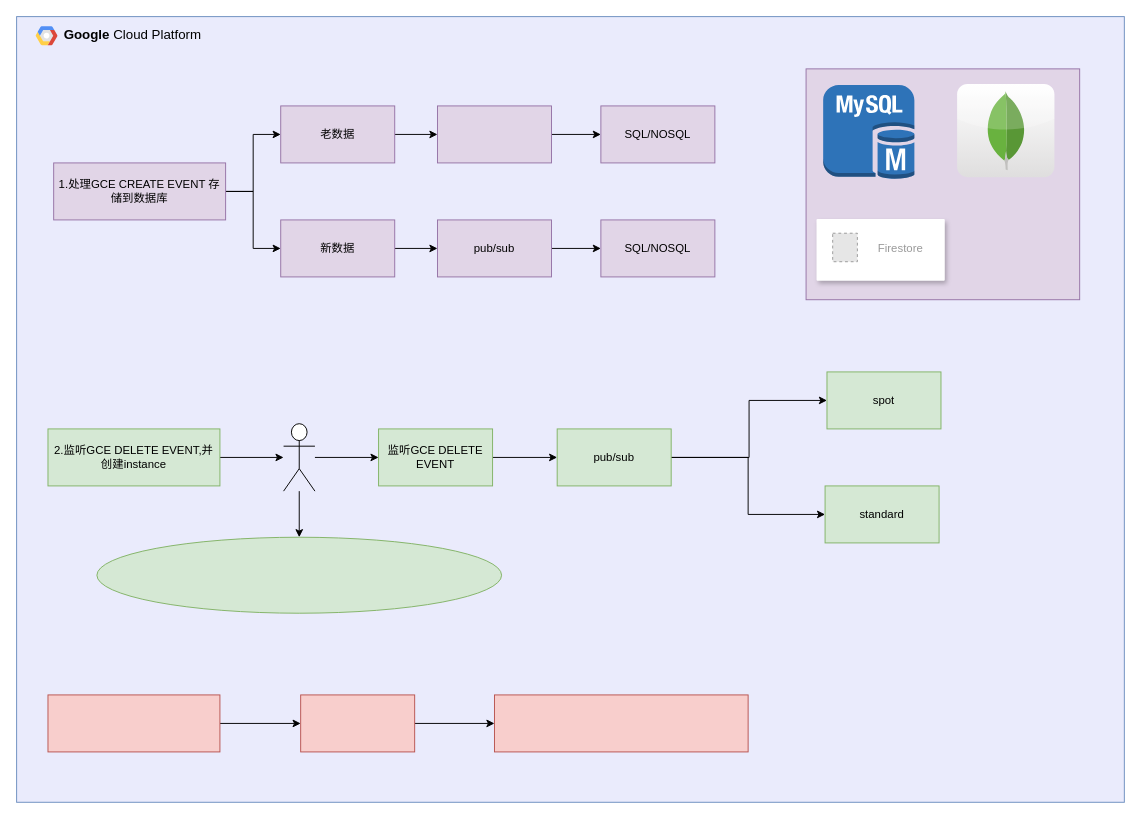
Some shapes in this 1141 by 819 pixel diagram are drawn without their labels. Grey dashed boxes stand in for pictures. The centre of each missing label's shape, as x and y in pixels:
"3.定期巡检 standaed GCE 转换成 spot GCE" belongs at (133,723).
"Actor" belongs at (299,457).
"判断删除邮箱是那个，如果是制定的，直接消费掉，特权邮箱，防止循环删除" belongs at (299,574).
"检查是不是standard，是的话，就delete 掉" belongs at (621,723).
"用logging api 过滤导入" belongs at (494,134).
"调用GCE api" belongs at (357,723).
